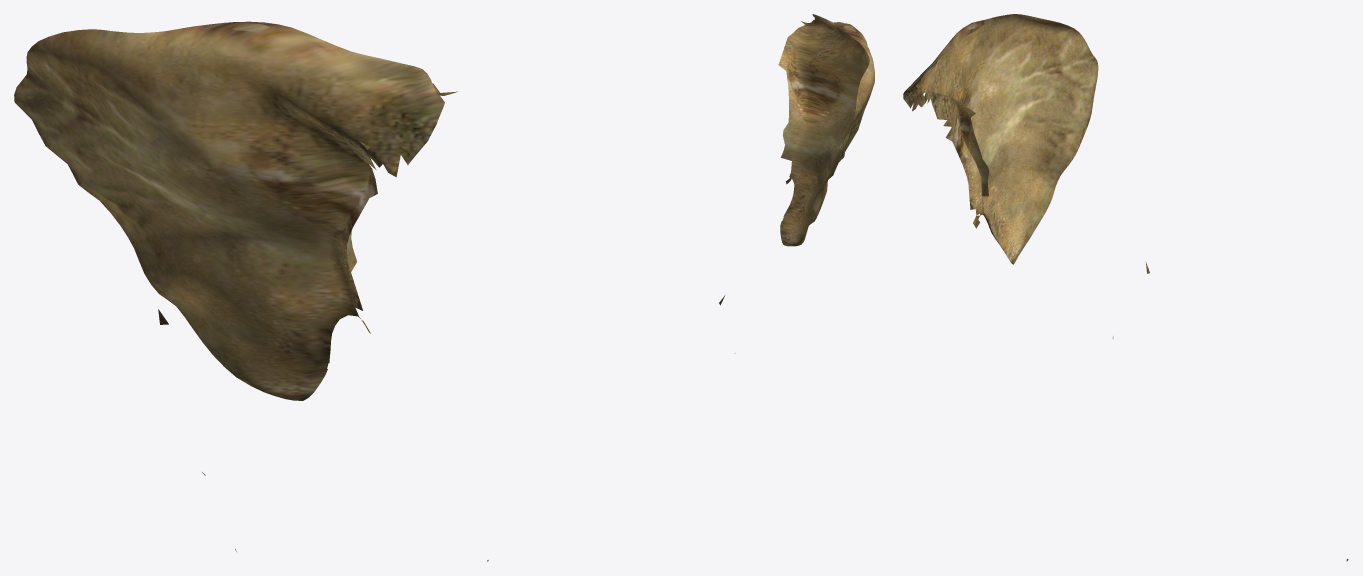
The model's file is oidoIzq.obj.
The picture shows the model from 3 angles, left to right: view 1: azimuth 30°, elevation 25°; view 2: azimuth 150°, elevation 25°; view 3: azimuth 270°, elevation 25°; orthographic projection. The views are drawn at different scales.
Parts seen in each view (by area): view 1: MainEleM.004; view 2: MainEleM.004; view 3: MainEleM.004.
Boxes of the visible parts, left/top/right/bottom form: MainEleM.004: left=14, top=21, right=457, bottom=551; MainEleM.004: left=487, top=14, right=874, bottom=561; MainEleM.004: left=903, top=14, right=1348, bottom=561.
Size of the model in its own units: 0.3904 by 0.7 by 0.6306.
Materials: 1 (1 with a texture image).
